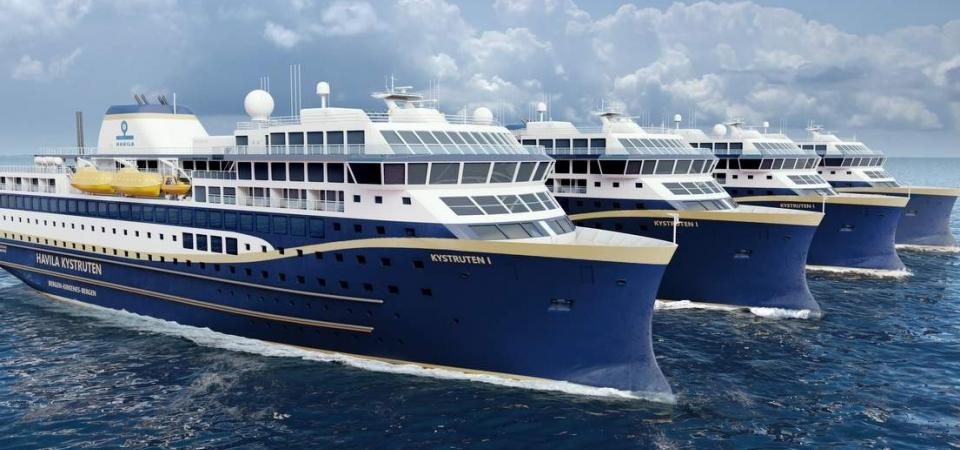ship: (1, 95, 689, 414), (574, 95, 833, 320), (692, 107, 911, 271), (815, 113, 957, 248)
